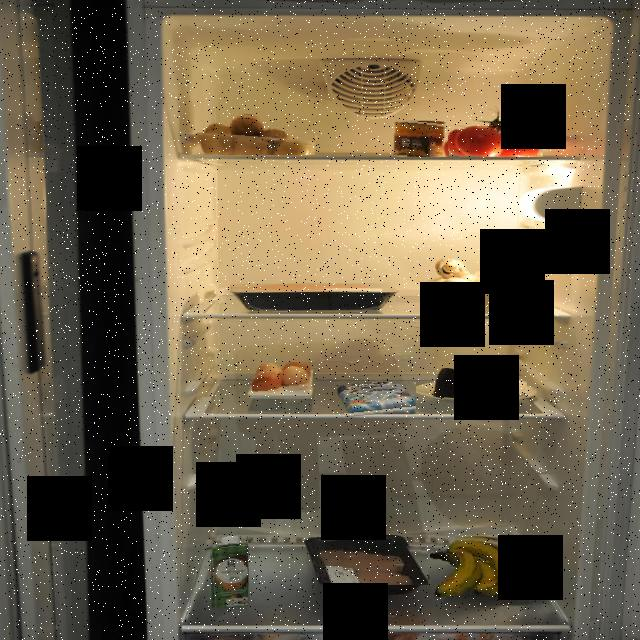banana: (430, 533, 532, 597)
cheese: (433, 368, 528, 402)
chicken_breast: (314, 541, 428, 585)
chocolate: (338, 382, 416, 418)
corn: (393, 119, 450, 157)
eggs: (253, 362, 317, 394)
heavy_cream: (210, 536, 248, 616)
mushrooms: (429, 254, 525, 308)
potato: (196, 111, 315, 156)
tomato: (447, 126, 543, 158)
